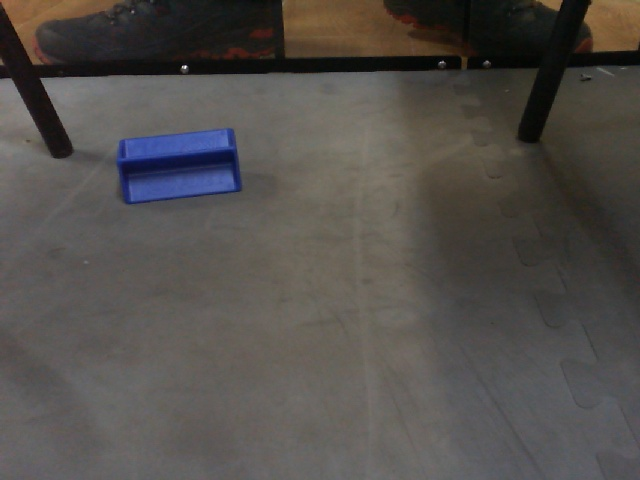BlueSample: (115, 125, 245, 207)
